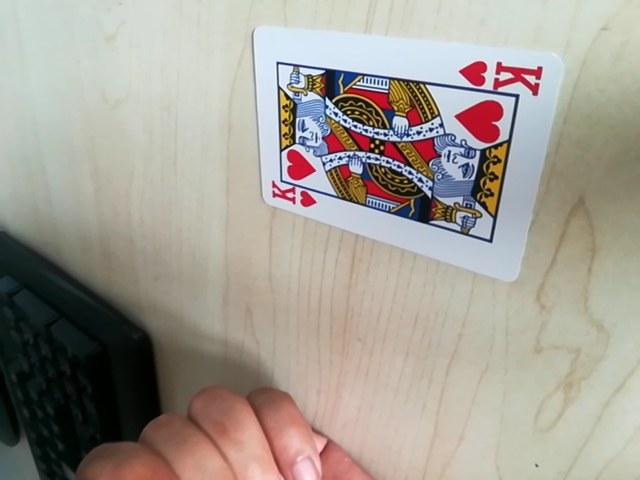hx k: (461, 54, 546, 97), (266, 184, 317, 212)
